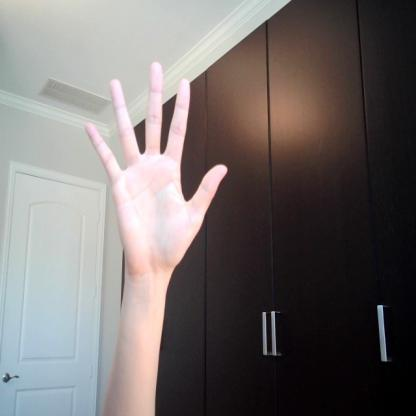five: (80, 58, 230, 276)
